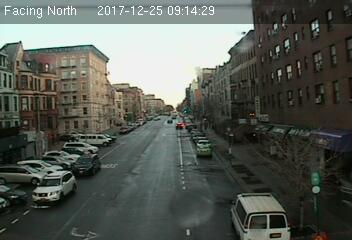car: (33, 170, 78, 206), (72, 151, 101, 176), (197, 145, 212, 155), (175, 122, 183, 129)
truck: (230, 191, 295, 240)
